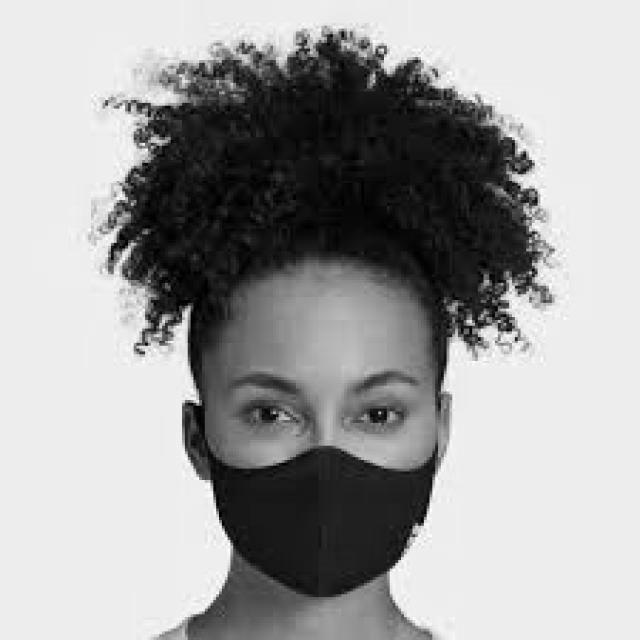fake: (205, 443, 447, 604)
real: (205, 271, 430, 605)
